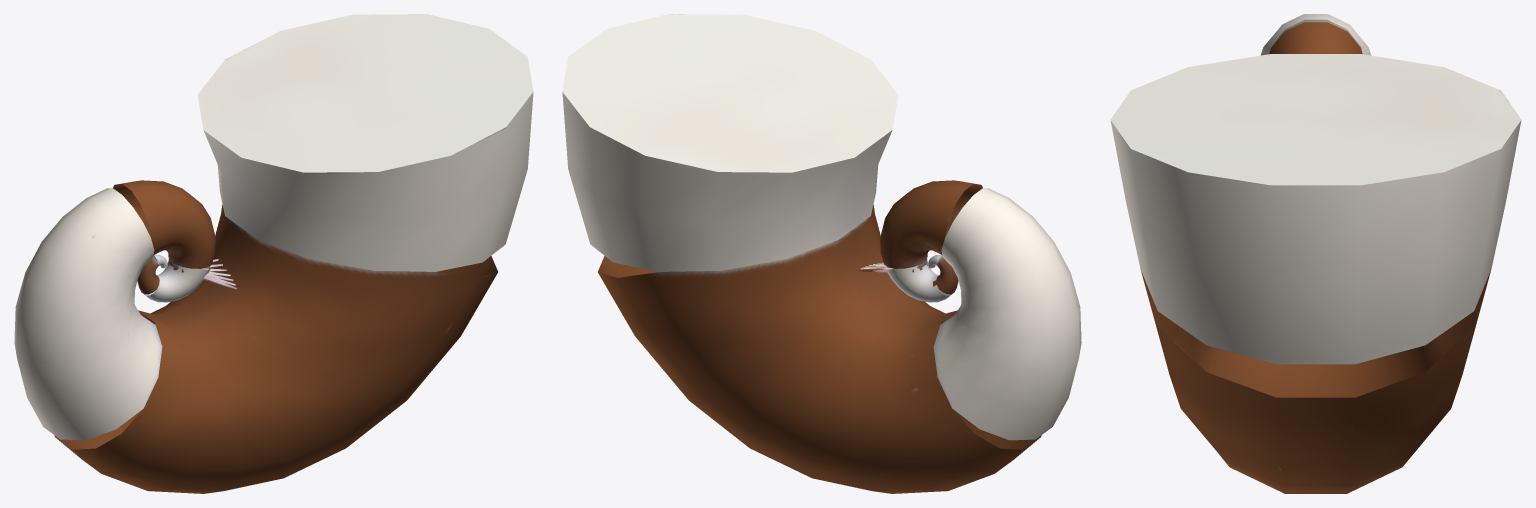
Rendered from nautilus.glb.
The picture shows the model from 3 angles, left to right: view 1: azimuth 30°, elevation 25°; view 2: azimuth 150°, elevation 25°; view 3: azimuth 270°, elevation 25°; orthographic projection. The views are drawn at different scales.
Visible parts, largest first — view 1: SM_Nautilus; view 2: SM_Nautilus; view 3: SM_Nautilus.
Part boxes in pixels (<box>): SM_Nautilus: <box>14,14,533,493</box>; SM_Nautilus: <box>562,14,1081,493</box>; SM_Nautilus: <box>1110,14,1521,493</box>.
Bounding box in the file's own units: 2.06 × 1.49 × 1.26.
Materials: 1 (1 with a texture image).
